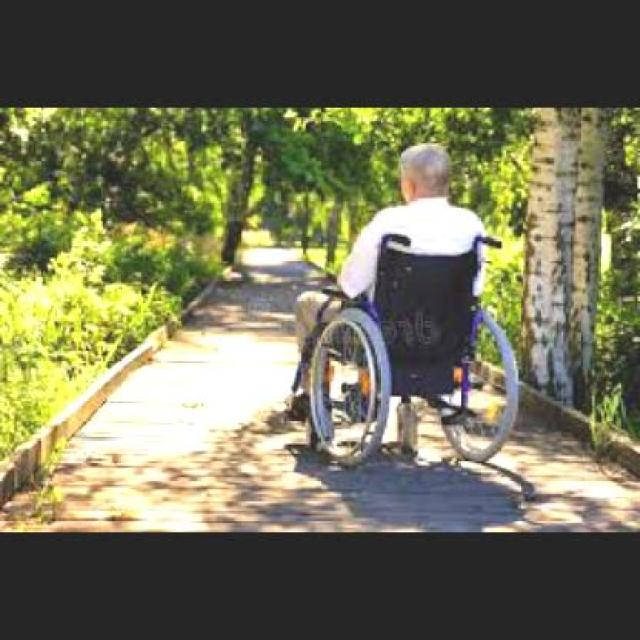wheelchairs: (282, 227, 522, 462)
